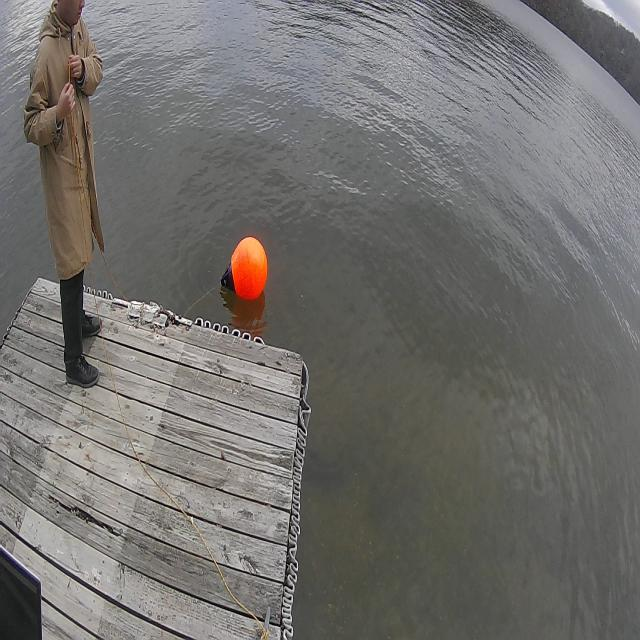Buoy: (221, 230, 271, 306)
